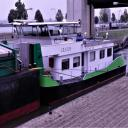tugboat: (3, 17, 128, 113)
